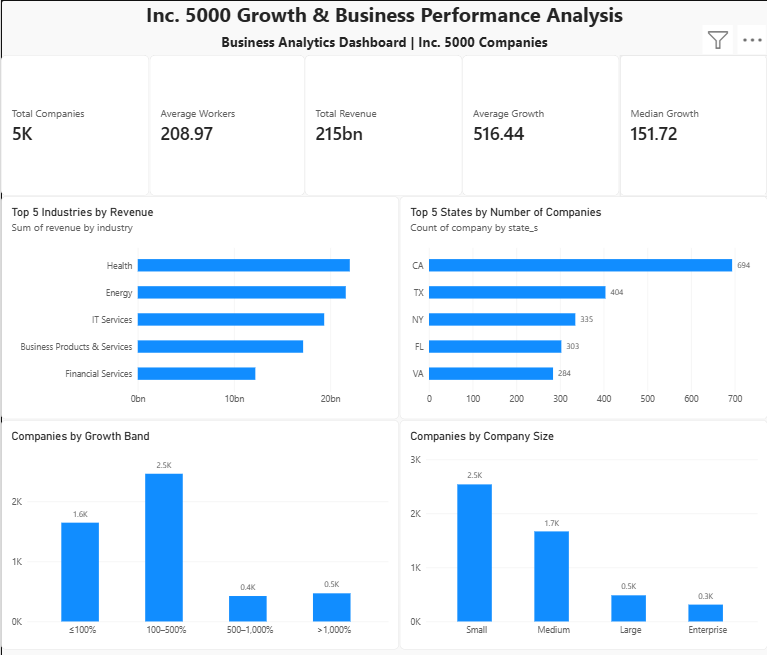

The page's visual inventory and layout, read from the dashboard file:
{"tool":"powerbi","page":{"name":"Page 1","canvas":[1920,1080],"ordinal":0},"visuals":[{"type":"cardVisual","fields":{"Data":["inc5000_analysis companies.Total Companies"]},"box":[0,88.6,237.1,225.7],"z":0},{"type":"cardVisual","fields":{"Data":["inc5000_analysis companies.Total Revenue"]},"box":[485.7,88.6,252.9,225.7],"z":1},{"type":"cardVisual","fields":{"Data":["inc5000_analysis companies.Average Growth"]},"box":[738.6,88.6,251.4,225.7],"z":2},{"type":"cardVisual","fields":{"Data":["inc5000_analysis companies.Median Growth"]},"box":[990,88.6,237.1,225.7],"z":3},{"type":"cardVisual","fields":{"Data":["inc5000_analysis companies.Average Workers"]},"box":[237.1,88.6,248.6,225.7],"z":4},{"type":"clusteredBarChart","title":"Top 5 Industries by Revenue","fields":{"Category":["inc5000_analysis companies.industry"],"Y":["Sum(inc5000_analysis companies.revenue)"]},"box":[0,314.3,637.1,357.1],"z":5},{"type":"clusteredColumnChart","title":"Companies by Growth Band","fields":{"Category":["inc5000_analysis companies.Growth Band"],"Y":["CountNonNull(inc5000_analysis companies.Growth Band)"]},"box":[0,671.4,637.1,367.1],"z":6},{"type":"clusteredBarChart","title":"Top 5 States by Number of Companies","fields":{"Category":["inc5000_analysis companies.state_s"],"Y":["CountNonNull(inc5000_analysis companies.company)"]},"box":[637.1,314.3,590,357.1],"z":7},{"type":"clusteredColumnChart","title":"Companies by Company Size","fields":{"Category":["inc5000_analysis companies.Company Size"],"Y":["CountNonNull(inc5000_analysis companies.company)"]},"box":[637.1,671.4,590,367.1],"z":8},{"type":"textbox","box":[0,0,1227.1,52.9],"z":9},{"type":"textbox","box":[0,52.9,1227.1,35.7],"z":10}]}

Visuals, with their boxes on the page's 1920x1080 design canvas (x1, y1, x2, y2). These are canvas units, not pixel positions in the 767x655 screenshot, which may show the page scaled, cropped or inside an application window:
cardVisual - inc5000_analysis companies.Total Companies: {"x1": 0, "y1": 89, "x2": 237, "y2": 314}
cardVisual - inc5000_analysis companies.Total Revenue: {"x1": 486, "y1": 89, "x2": 739, "y2": 314}
cardVisual - inc5000_analysis companies.Average Growth: {"x1": 739, "y1": 89, "x2": 990, "y2": 314}
cardVisual - inc5000_analysis companies.Median Growth: {"x1": 990, "y1": 89, "x2": 1227, "y2": 314}
cardVisual - inc5000_analysis companies.Average Workers: {"x1": 237, "y1": 89, "x2": 486, "y2": 314}
"Top 5 Industries by Revenue" clusteredBarChart: {"x1": 0, "y1": 314, "x2": 637, "y2": 671}
"Companies by Growth Band" clusteredColumnChart: {"x1": 0, "y1": 671, "x2": 637, "y2": 1038}
"Top 5 States by Number of Companies" clusteredBarChart: {"x1": 637, "y1": 314, "x2": 1227, "y2": 671}
"Companies by Company Size" clusteredColumnChart: {"x1": 637, "y1": 671, "x2": 1227, "y2": 1038}
textbox: {"x1": 0, "y1": 0, "x2": 1227, "y2": 53}
textbox: {"x1": 0, "y1": 53, "x2": 1227, "y2": 89}
